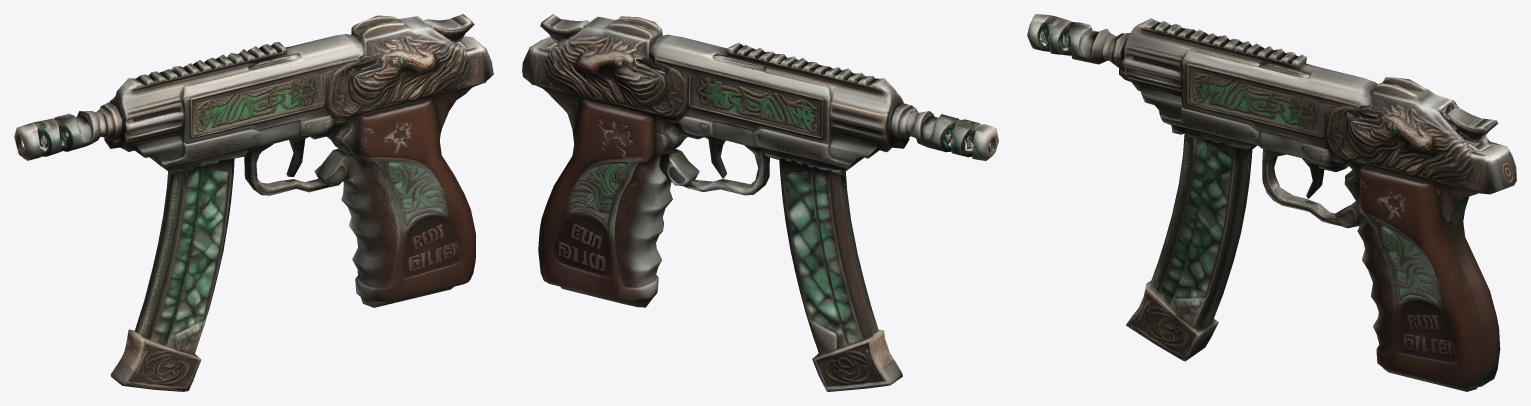
Rendered from the_negotiator_V2.glb.
3 renders of one model, left to right at view 1: azimuth 30°, elevation 25°; view 2: azimuth 150°, elevation 25°; view 3: azimuth 330°, elevation 25°, orthographic. The views are drawn at different scales.
Visible parts, largest first — view 1: Mesh1.0; view 2: Mesh1.0; view 3: Mesh1.0.
Boxes of the visible parts, bbox=[...] form: Mesh1.0: bbox=[14, 14, 493, 391]; Mesh1.0: bbox=[522, 14, 998, 391]; Mesh1.0: bbox=[1027, 14, 1516, 391].
Size of the model in its own units: 1.91 by 1.23 by 0.2081.
Materials: 1 (1 with a texture image).
